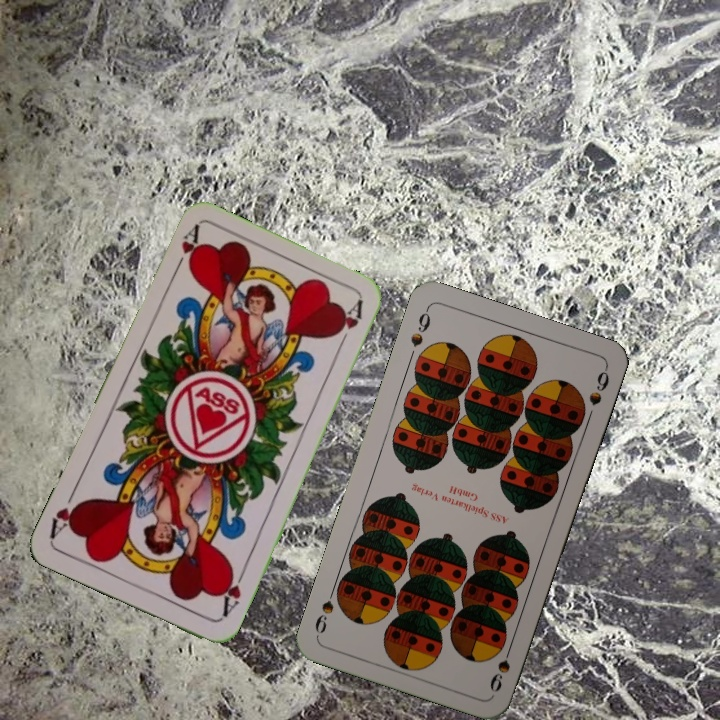HA: (169, 222, 205, 279), (216, 564, 248, 620)
S9: (485, 638, 516, 695), (406, 304, 433, 350)
